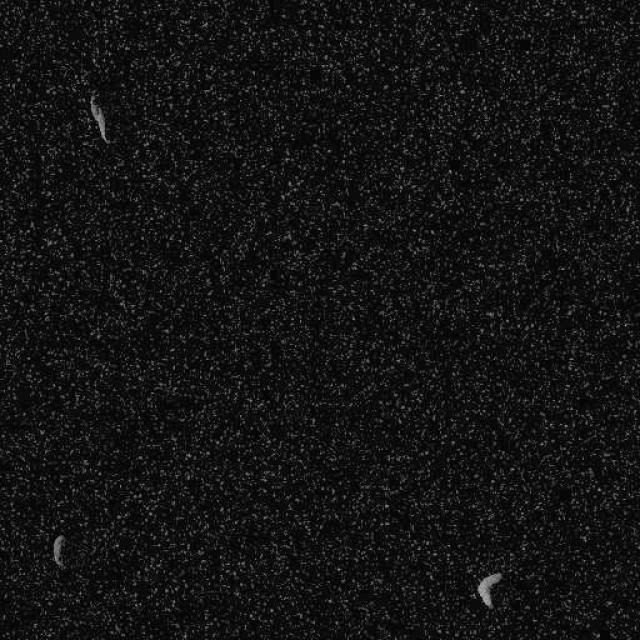D2: (88, 91, 110, 144), (475, 570, 503, 609), (52, 534, 66, 568)
